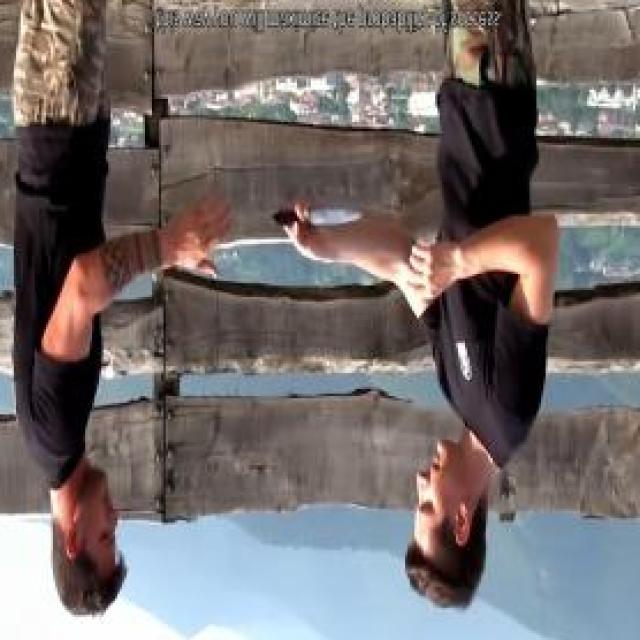knife: (270, 201, 368, 244)
